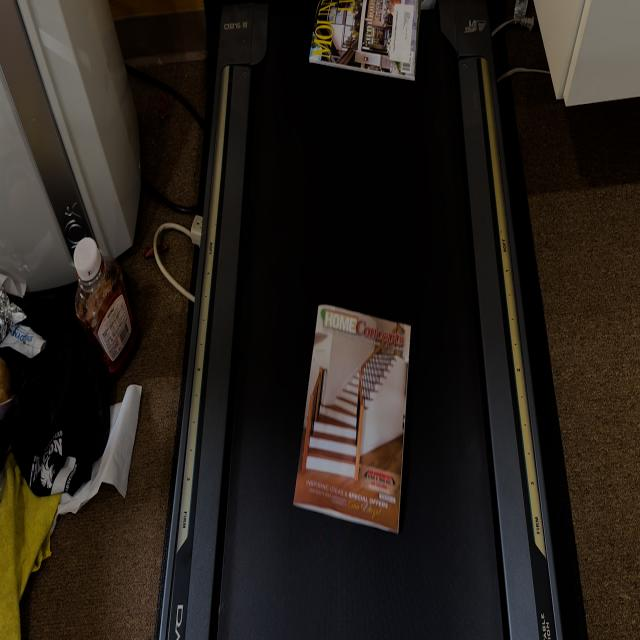Recycle: (291, 302, 412, 538), (306, 0, 420, 84)
